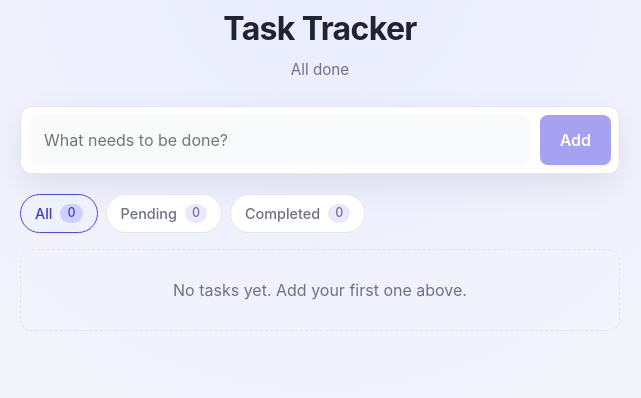
it: Task Tracker › deletes a task
Type "Keep me" into the field named "New task". click: (279, 140)
box: [29,115,530,165]
Then press Enter
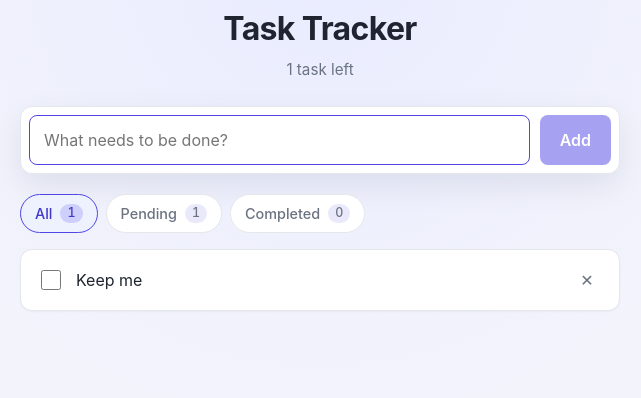
Type "Delete me" into the field named "New task". click: (279, 140)
box: [29,115,530,165]
Then press Enter
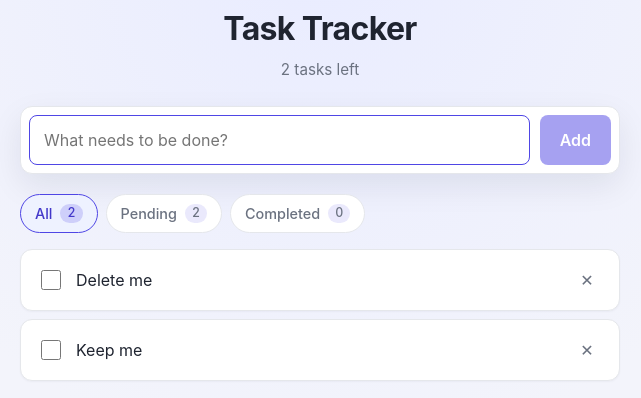
Click the button named "Delete \"Delete me\"". click: (587, 280)
box: [571,264,603,296]
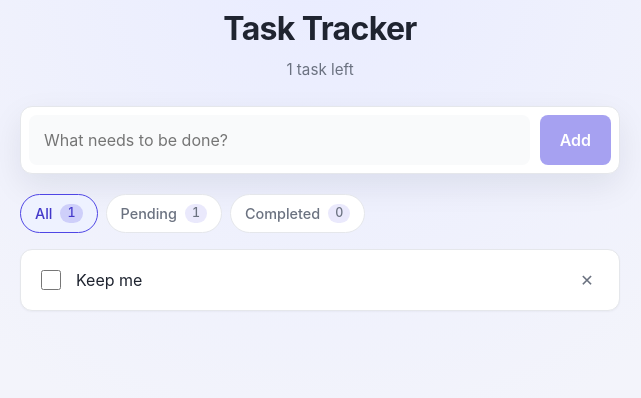
Check: the text "Delete me" is gone
